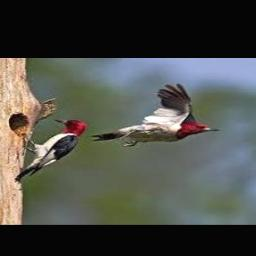Woodpecker: (91, 83, 220, 147), (15, 119, 88, 182)
